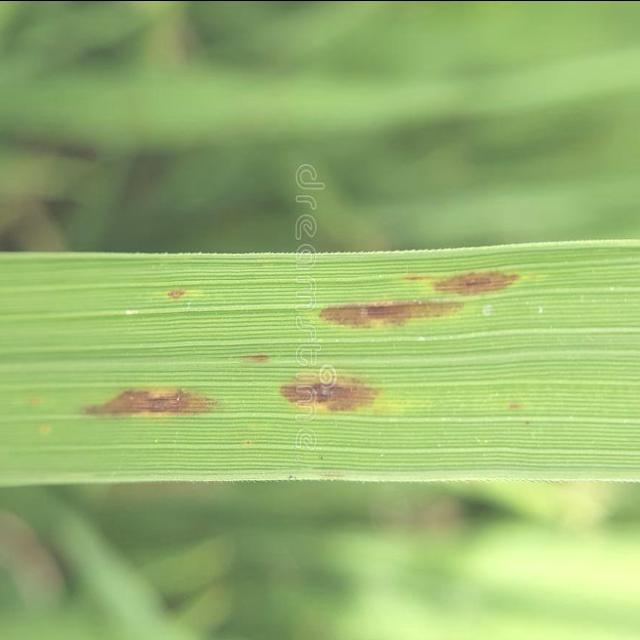Brown_Spot: (71, 378, 233, 438), (273, 360, 395, 430), (312, 290, 469, 334), (422, 264, 528, 310), (156, 276, 210, 313)
